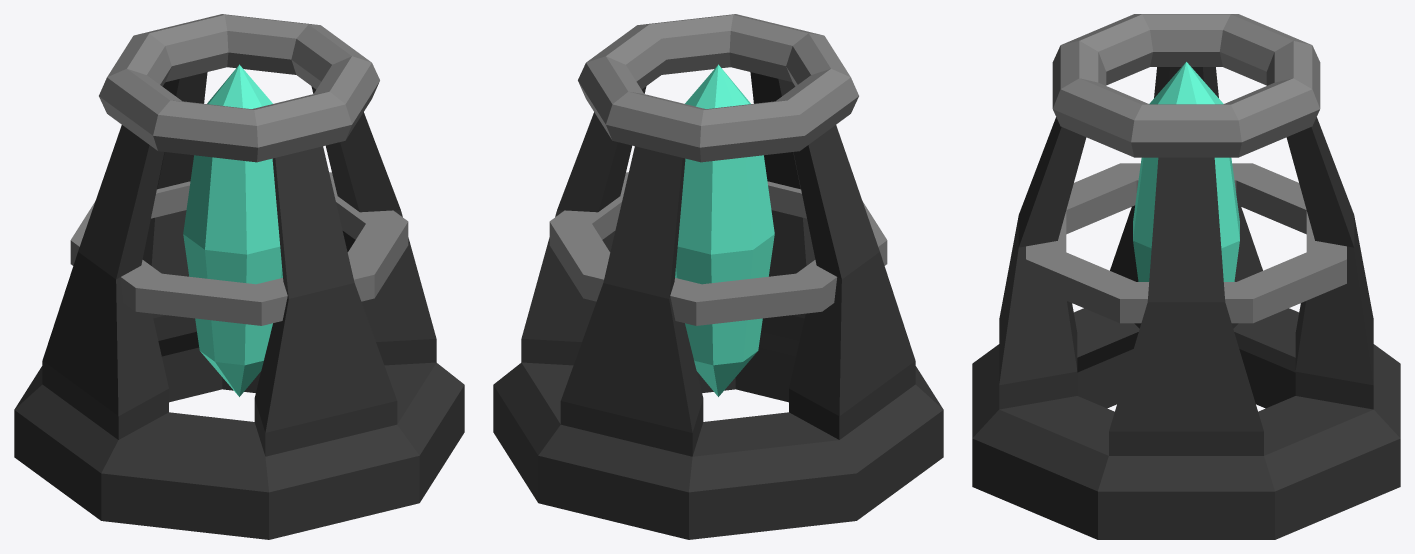
File: Mthruster.obj
The picture shows the model from 3 angles, left to right: view 1: azimuth 30°, elevation 25°; view 2: azimuth 150°, elevation 25°; view 3: azimuth 270°, elevation 25°; orthographic projection.
Parts seen in each view (by area): view 1: tube, torus, sphere; view 2: tube, torus, sphere; view 3: tube, torus, sphere.
Part boxes in pixels (<box>): tube: <box>14,72,464,539</box>; torus: <box>99,14,379,162</box>; sphere: <box>183,64,282,396</box>; tube: <box>493,72,943,539</box>; torus: <box>578,14,858,162</box>; sphere: <box>675,64,774,396</box>; tube: <box>972,67,1400,539</box>; torus: <box>1052,14,1320,157</box>; sphere: <box>1133,62,1239,281</box>.
Size of the model in its own units: 1 by 1.01 by 1.
